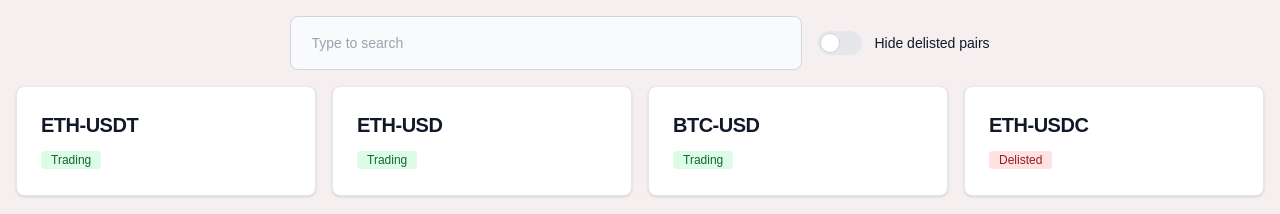
Scenario: Home page › display only trading pairs when hide toggle is on
Expected: the text "Trading" is shown 3 times, [41, 151, 101, 169]; [357, 151, 417, 169]; [673, 151, 733, 169]
Expected: the text "Delisted" is shown once, [989, 151, 1052, 169]
Step 1. Click the checkbox with test id "hide-delisted-toggle" → (904, 43), box [818, 31, 990, 55]
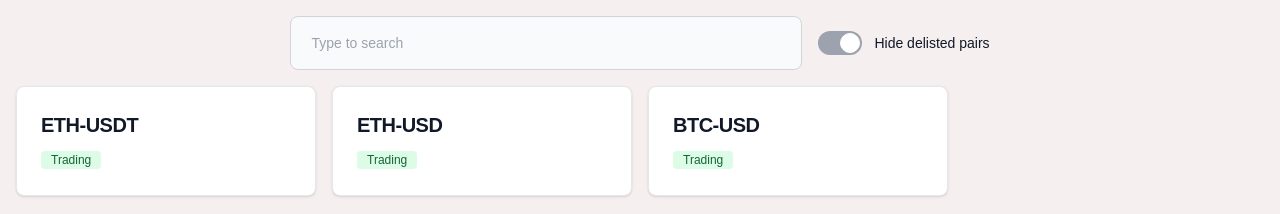
Expected: the text "Trading" is shown 3 times, [41, 151, 101, 169]; [357, 151, 417, 169]; [673, 151, 733, 169]
Expected: the heading "ETH-USDC" is gone
